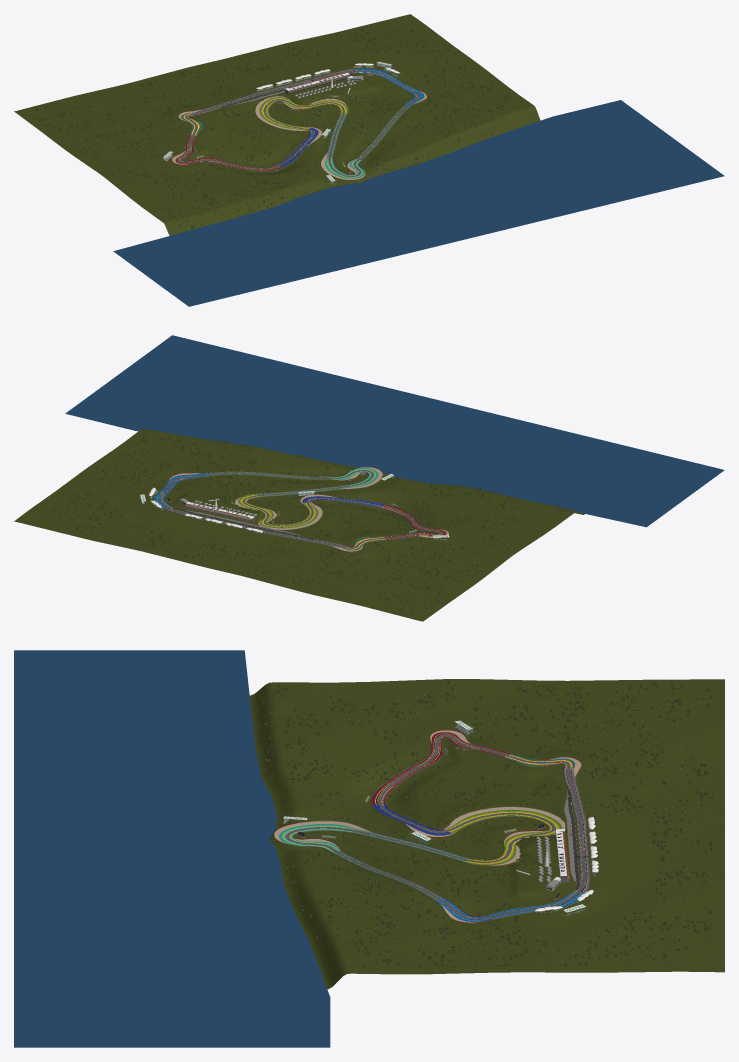
The model's file is rwanda_2026.glb.
3 views of the same model, one above another, from view 1: azimuth 30°, elevation 25°; view 2: azimuth 150°, elevation 25°; view 3: azimuth 270°, elevation 25° (orthographic). The views are drawn at different scales.
Parts seen in each view (by area): view 1: Terrain, Lake, Env_Foliage, Track_Runoff_Paint, Track_Asphalt_Road, Env_Trees, Track_Barriers; view 2: Terrain, Lake, Env_Foliage, Track_Runoff_Paint, Track_Asphalt_Road, Env_Trees, Track_Barriers, Prop_PitBuilding; view 3: Terrain, Lake, Env_Foliage, Track_Runoff_Paint, Track_Asphalt_Road, Env_Trees, Track_Barriers, Track_Pitlane.
Part boxes in pixels (x1=…): Terrain: x1=14, y1=14, x2=540, y2=235; Lake: x1=113, y1=100, x2=724, y2=306; Env_Foliage: x1=35, y1=26, x2=524, y2=230; Track_Runoff_Paint: x1=171, y1=68, x2=427, y2=180; Track_Asphalt_Road: x1=179, y1=70, x2=419, y2=176; Env_Trees: x1=44, y1=23, x2=513, y2=224; Track_Barriers: x1=172, y1=68, x2=427, y2=180; Terrain: x1=14, y1=428, x2=584, y2=621; Lake: x1=65, y1=335, x2=724, y2=527; Env_Foliage: x1=47, y1=430, x2=568, y2=612; Track_Runoff_Paint: x1=153, y1=467, x2=449, y2=552; Track_Asphalt_Road: x1=159, y1=470, x2=442, y2=548; Env_Trees: x1=41, y1=432, x2=548, y2=607; Track_Barriers: x1=154, y1=467, x2=449, y2=551; Prop_PitBuilding: x1=185, y1=502, x2=254, y2=523; Terrain: x1=249, y1=679, x2=724, y2=989; Lake: x1=14, y1=650, x2=330, y2=1047; Env_Foliage: x1=253, y1=681, x2=713, y2=968; Track_Runoff_Paint: x1=273, y1=730, x2=590, y2=923; Track_Asphalt_Road: x1=285, y1=734, x2=586, y2=919; Env_Trees: x1=257, y1=685, x2=704, y2=963; Track_Barriers: x1=274, y1=730, x2=589, y2=922; Track_Pitlane: x1=564, y1=789, x2=579, y2=889.
Size of what is drawn, in the model's own units: 3017 by 135 by 2282.
Materials: 83 (76 with a texture image).
